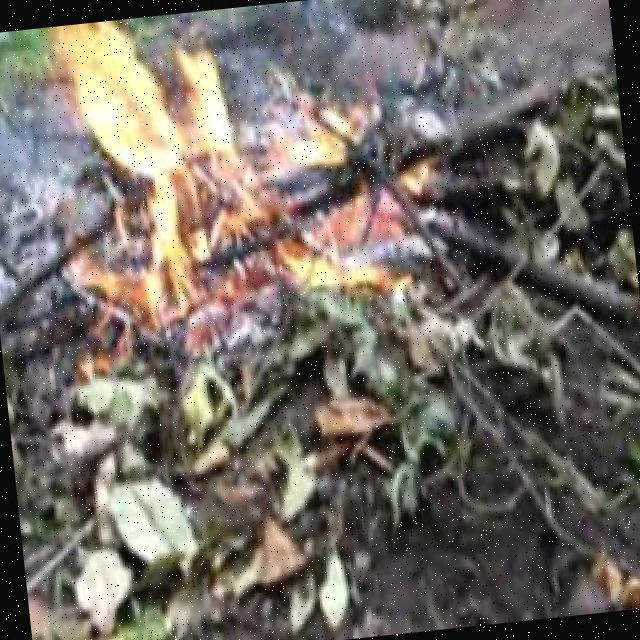Fire: (31, 0, 378, 332)
